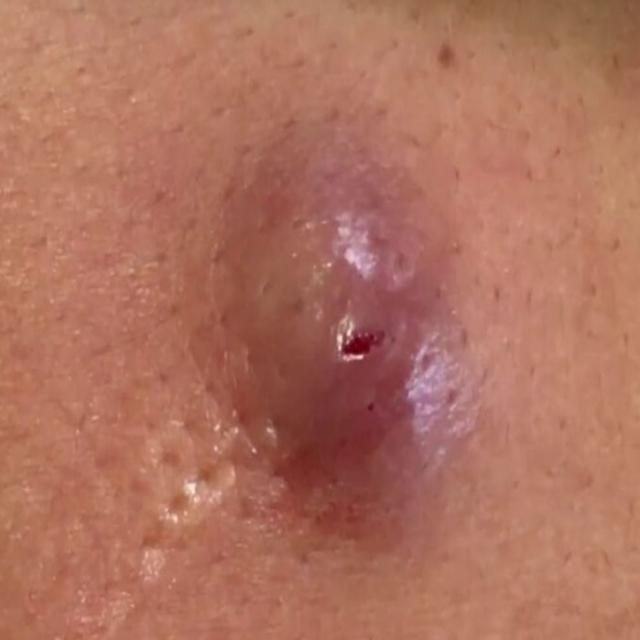nodule: (212, 120, 500, 507)
